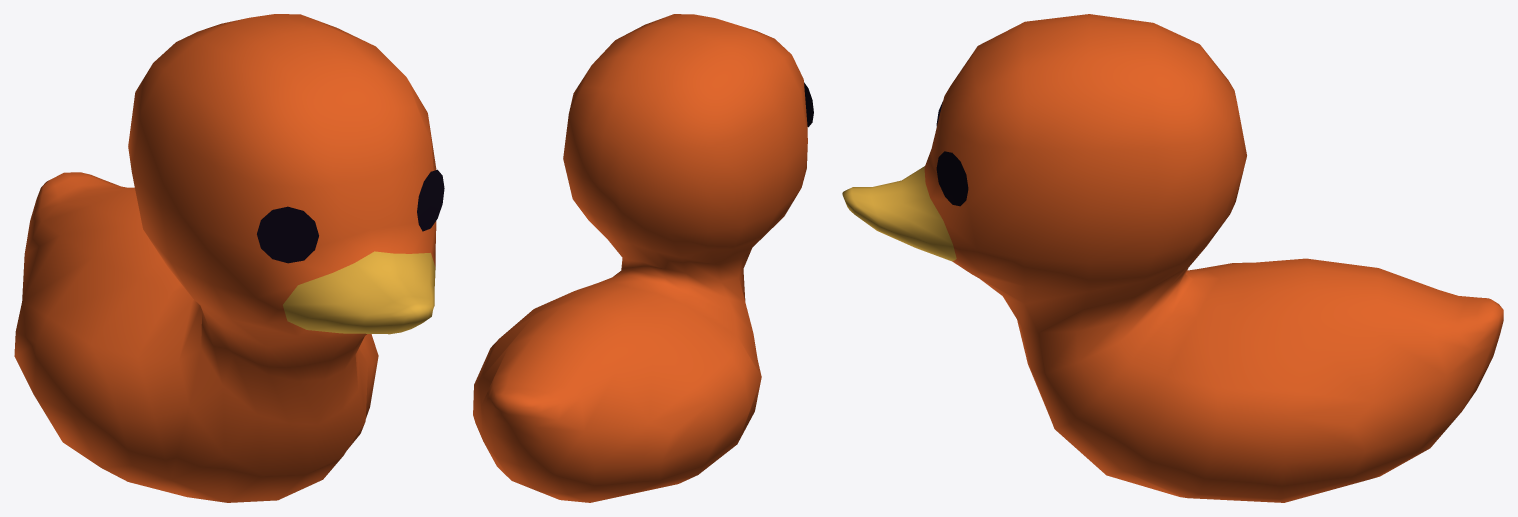
Rendered from Duck_Orange.fbx.
The picture shows the model from 3 angles, left to right: view 1: azimuth 30°, elevation 25°; view 2: azimuth 150°, elevation 25°; view 3: azimuth 270°, elevation 25°; orthographic projection. The views are drawn at different scales.
Parts seen in each view (by area): view 1: Duck_Orange; view 2: Duck_Orange; view 3: Duck_Orange.
Boxes of the visible parts, x1,y1,x2,y2 form: Duck_Orange: [14, 14, 444, 502]; Duck_Orange: [473, 14, 813, 502]; Duck_Orange: [842, 14, 1503, 502].
Bounding box in the file's own units: 76.94 × 124 × 165.
